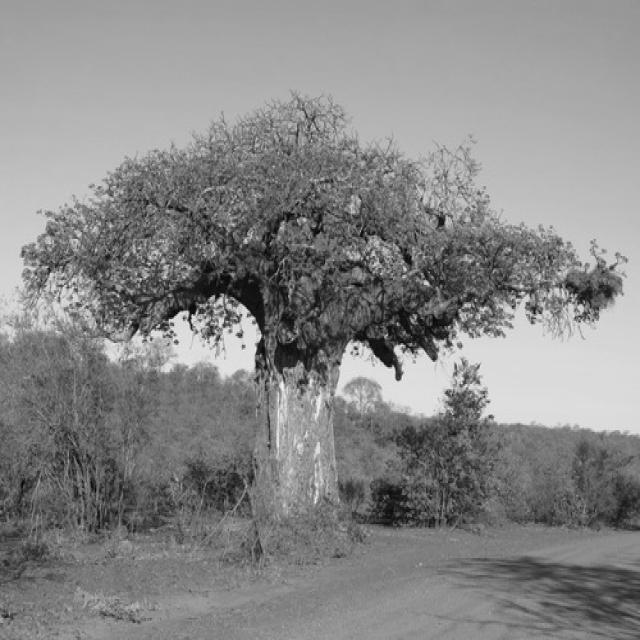baobab: (19, 90, 622, 534)
